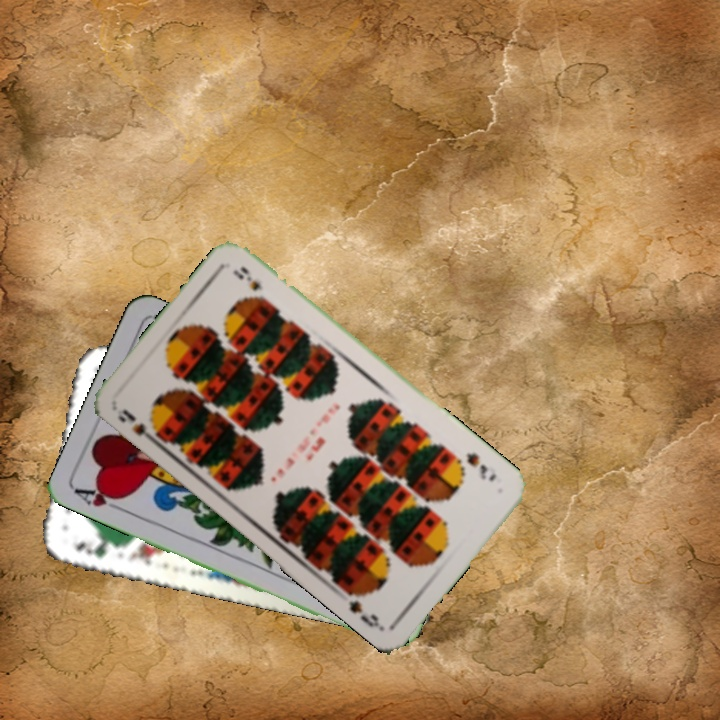GK: (71, 537, 123, 561)
HA: (71, 482, 128, 515)
S9: (113, 405, 164, 448), (462, 448, 499, 484)
